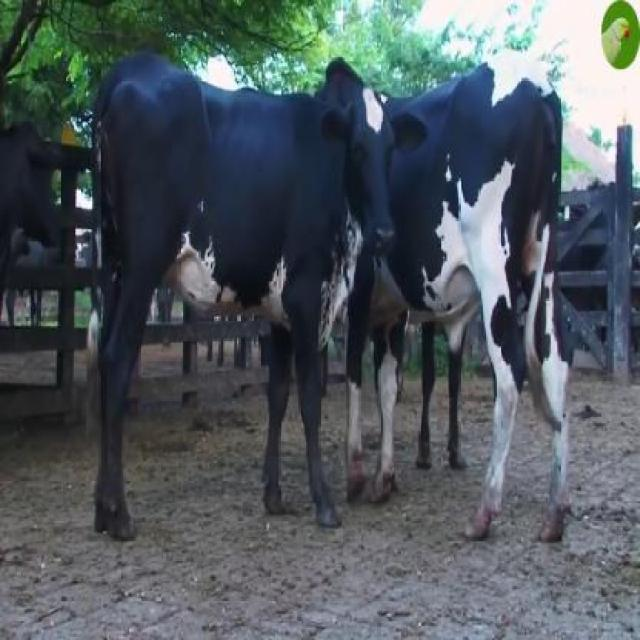Cow: (95, 52, 428, 557)
